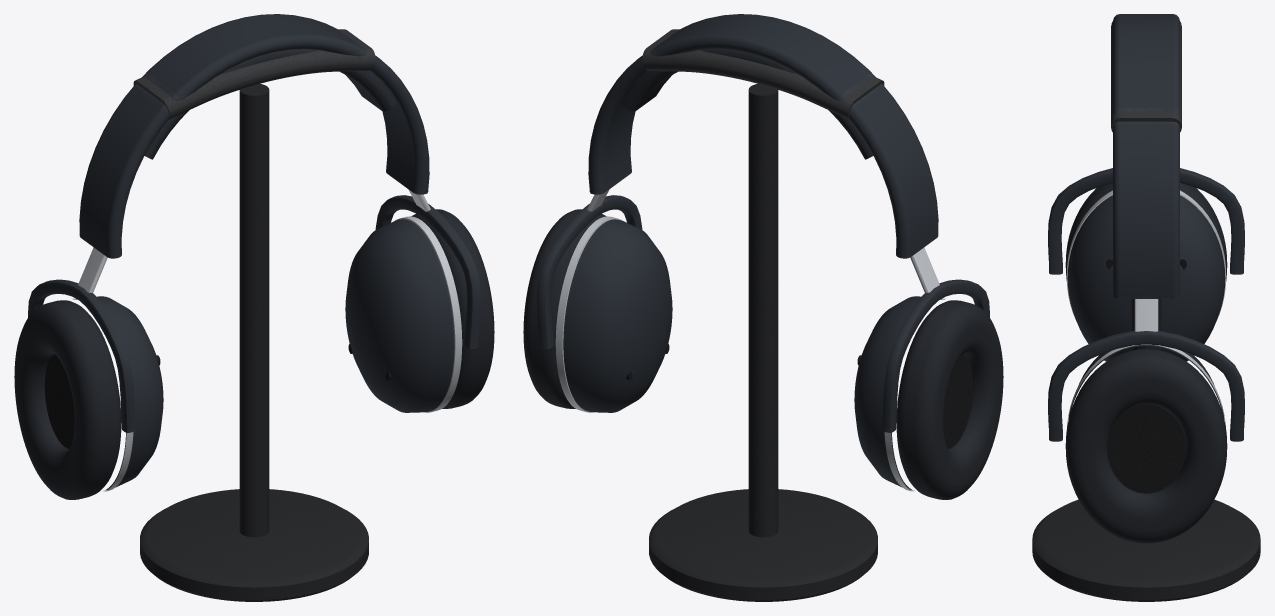
Rendered from SM_Headphones.glb.
The picture shows the model from 3 angles, left to right: view 1: azimuth 30°, elevation 25°; view 2: azimuth 150°, elevation 25°; view 3: azimuth 270°, elevation 25°; orthographic projection.
Visible parts, largest first — view 1: SM_Headphones; view 2: SM_Headphones; view 3: SM_Headphones.
Part boxes in pixels (x1,y1,x2,y2): SM_Headphones: (14,14,494,601); SM_Headphones: (523,14,1003,601); SM_Headphones: (1032,14,1260,601).
Size of the model in its own units: 0.24 by 0.2942 by 0.116.
8 materials, 8 textured.
